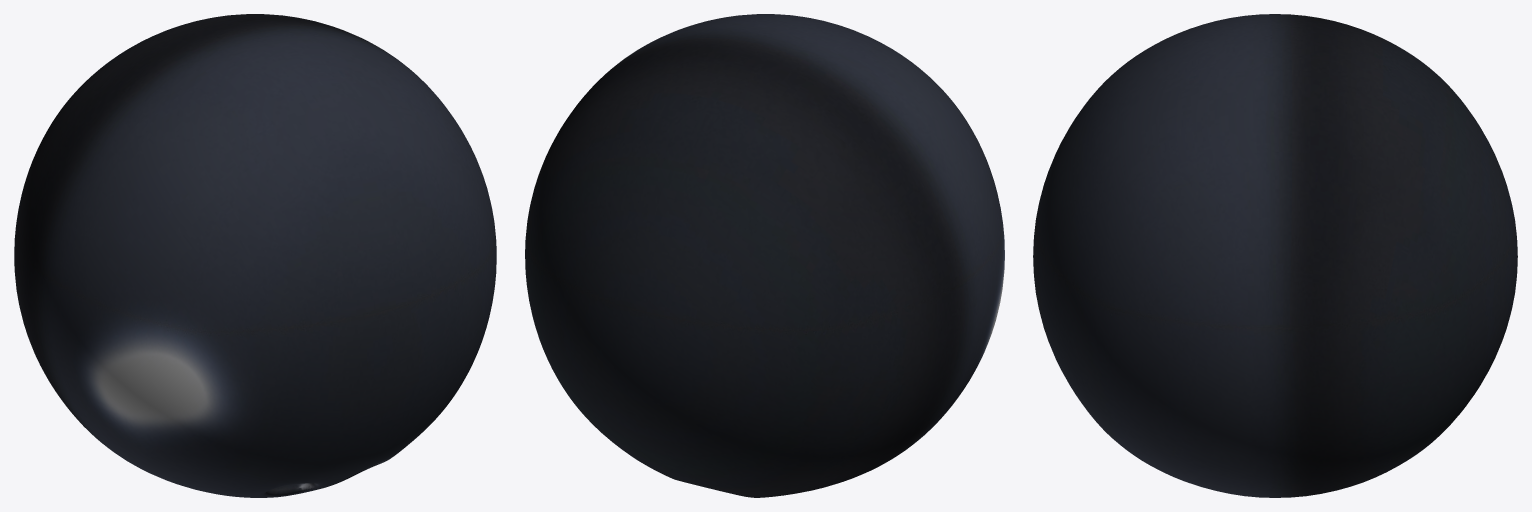
File: bowling_ball.gltf
The picture shows the model from 3 angles, left to right: view 1: azimuth 30°, elevation 25°; view 2: azimuth 150°, elevation 25°; view 3: azimuth 270°, elevation 25°; orthographic projection.
Visible parts, largest first — view 1: 10491_Bowling Ball_v1_max8_iteration-2; view 2: 10491_Bowling Ball_v1_max8_iteration-2; view 3: 10491_Bowling Ball_v1_max8_iteration-2.
Part boxes in pixels (x1=…): 10491_Bowling Ball_v1_max8_iteration-2: x1=14, y1=14, x2=496, y2=497; 10491_Bowling Ball_v1_max8_iteration-2: x1=525, y1=14, x2=1004, y2=497; 10491_Bowling Ball_v1_max8_iteration-2: x1=1033, y1=14, x2=1517, y2=497.
Bounding box in the file's own units: 21.98 × 21.93 × 21.98.
1 material, 1 textured.
